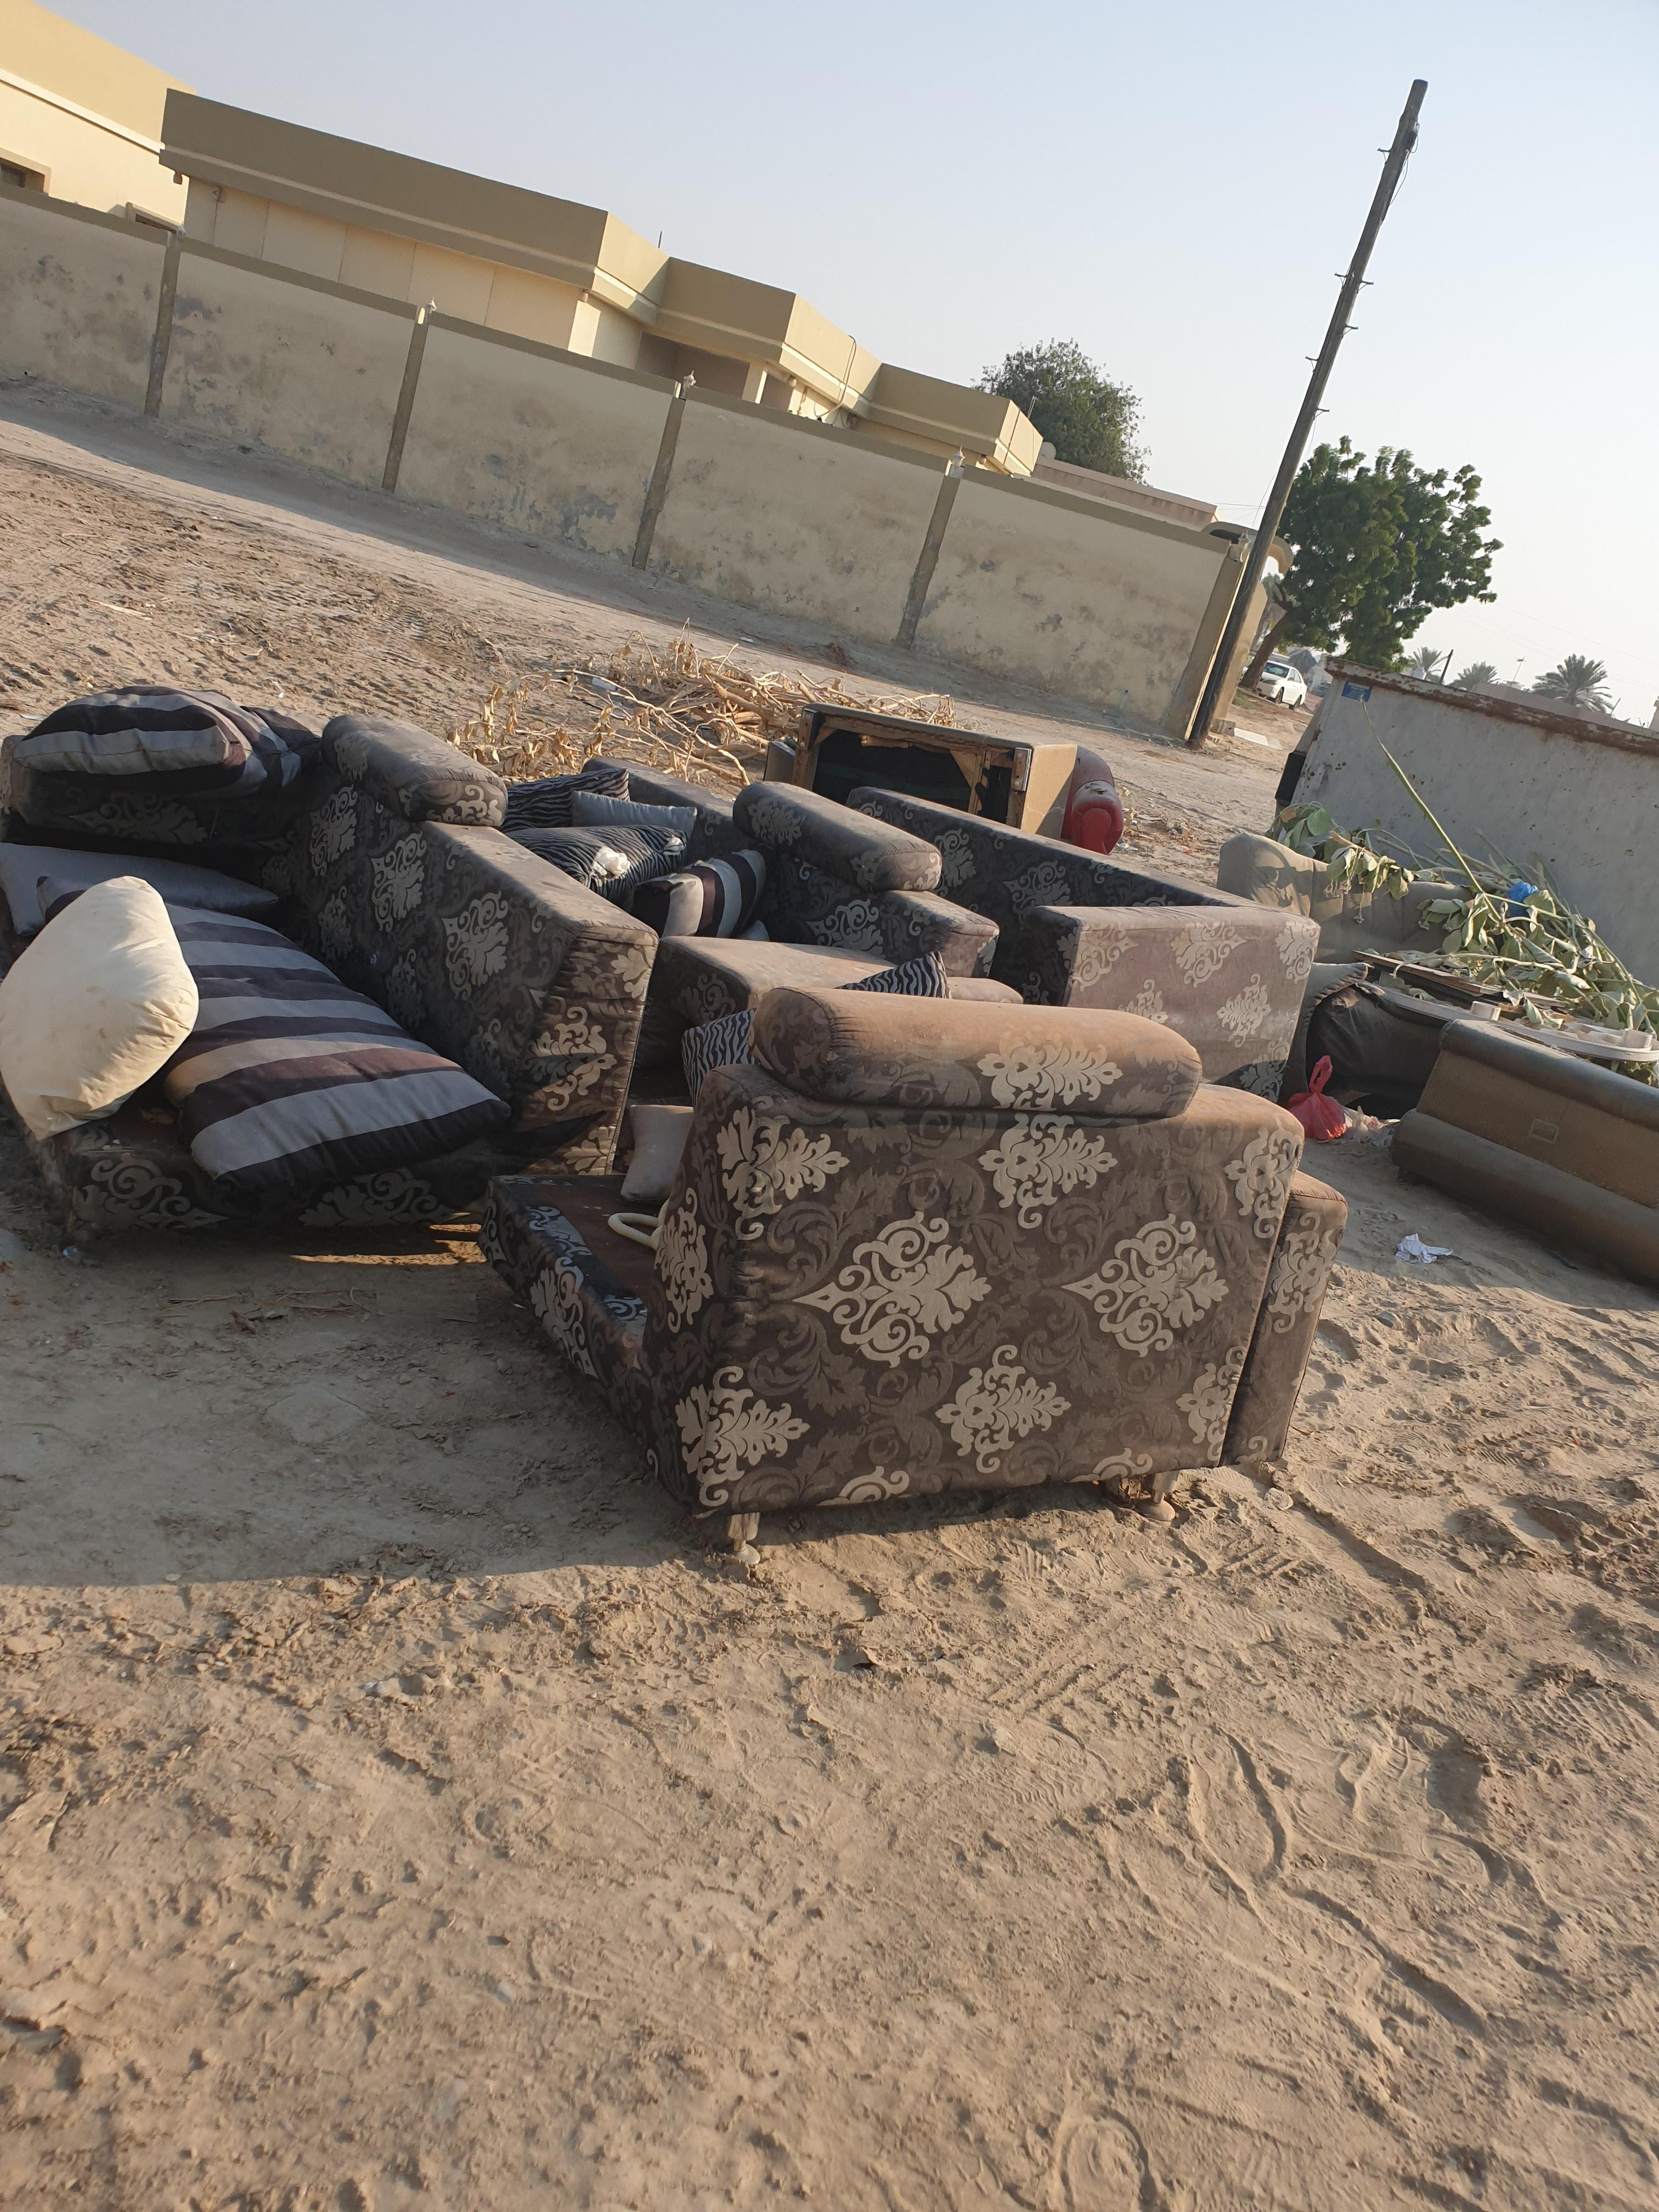uncollected_waste: (59, 627, 1316, 1717), (314, 925, 1420, 1707), (289, 1085, 1554, 1634), (272, 648, 819, 1460), (117, 646, 742, 1341)
